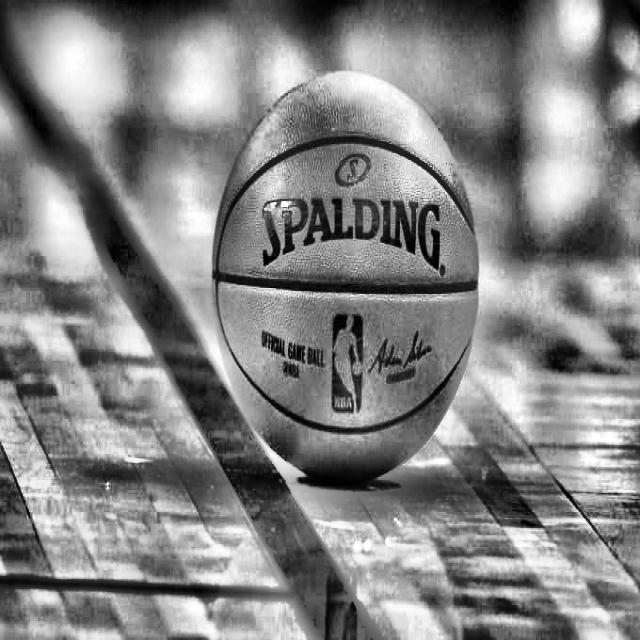Basketball: (213, 71, 479, 481)
